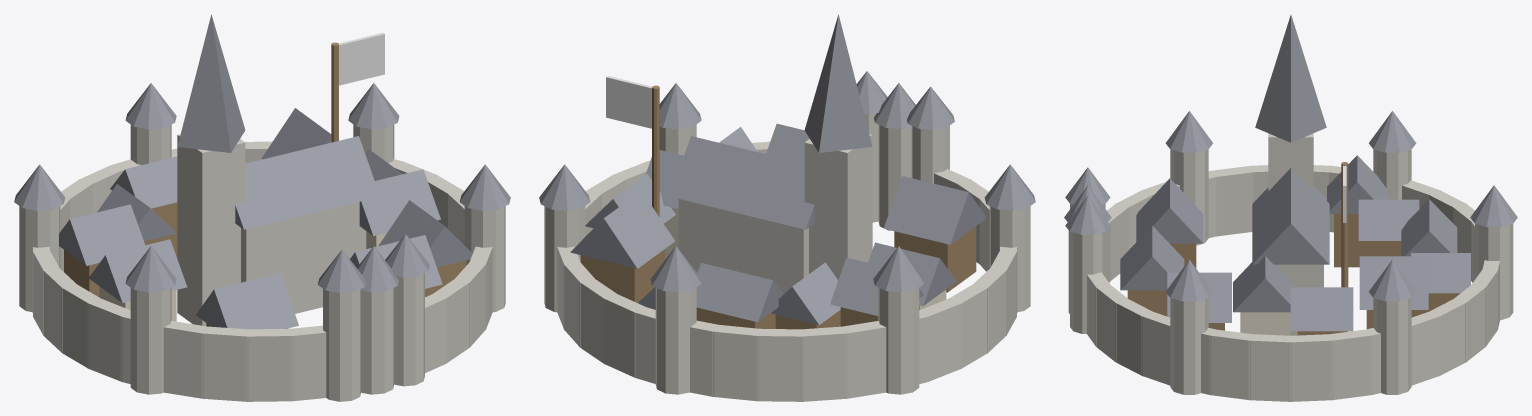
File: civ_city_medieval_town.glb
3 views of the same model, side by side, from view 1: azimuth 30°, elevation 25°; view 2: azimuth 150°, elevation 25°; view 3: azimuth 270°, elevation 25° (orthographic). The views are drawn at different scales.
Visible parts, largest first — view 1: civ_city_medieval_town; view 2: civ_city_medieval_town; view 3: civ_city_medieval_town.
Boxes of the visible parts, x1,y1,x2,y2 form: civ_city_medieval_town: (14,14,510,401); civ_city_medieval_town: (539,14,1035,401); civ_city_medieval_town: (1064,15,1517,401).
Size of the model in its own units: 3.53 by 2.55 by 3.8.
